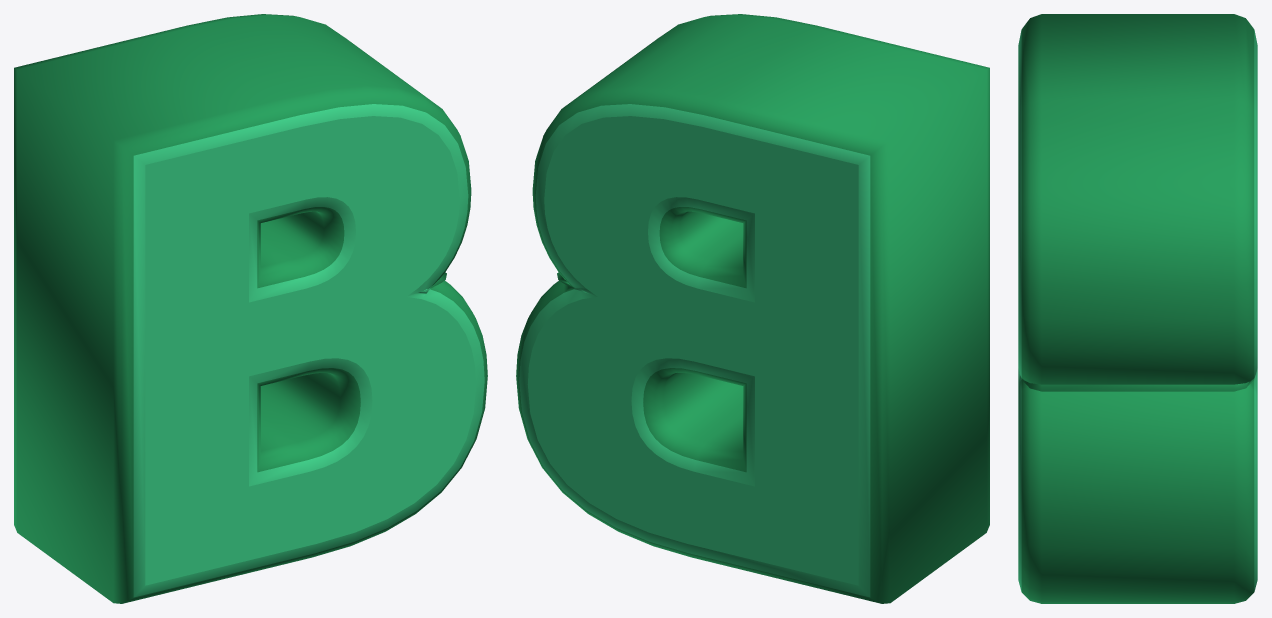
The model's file is letter_B_green.glb.
The picture shows the model from 3 angles, left to right: view 1: azimuth 30°, elevation 25°; view 2: azimuth 150°, elevation 25°; view 3: azimuth 270°, elevation 25°; orthographic projection.
Visible parts, largest first — view 1: MOBP_letter_B_green; view 2: MOBP_letter_B_green; view 3: MOBP_letter_B_green.
Boxes of the visible parts, x1,y1,x2,y2 form: MOBP_letter_B_green: (14,14,487,603); MOBP_letter_B_green: (516,14,989,603); MOBP_letter_B_green: (1018,14,1257,603).
Size of the model in its own units: 0.0714 by 0.085 by 0.0398.
